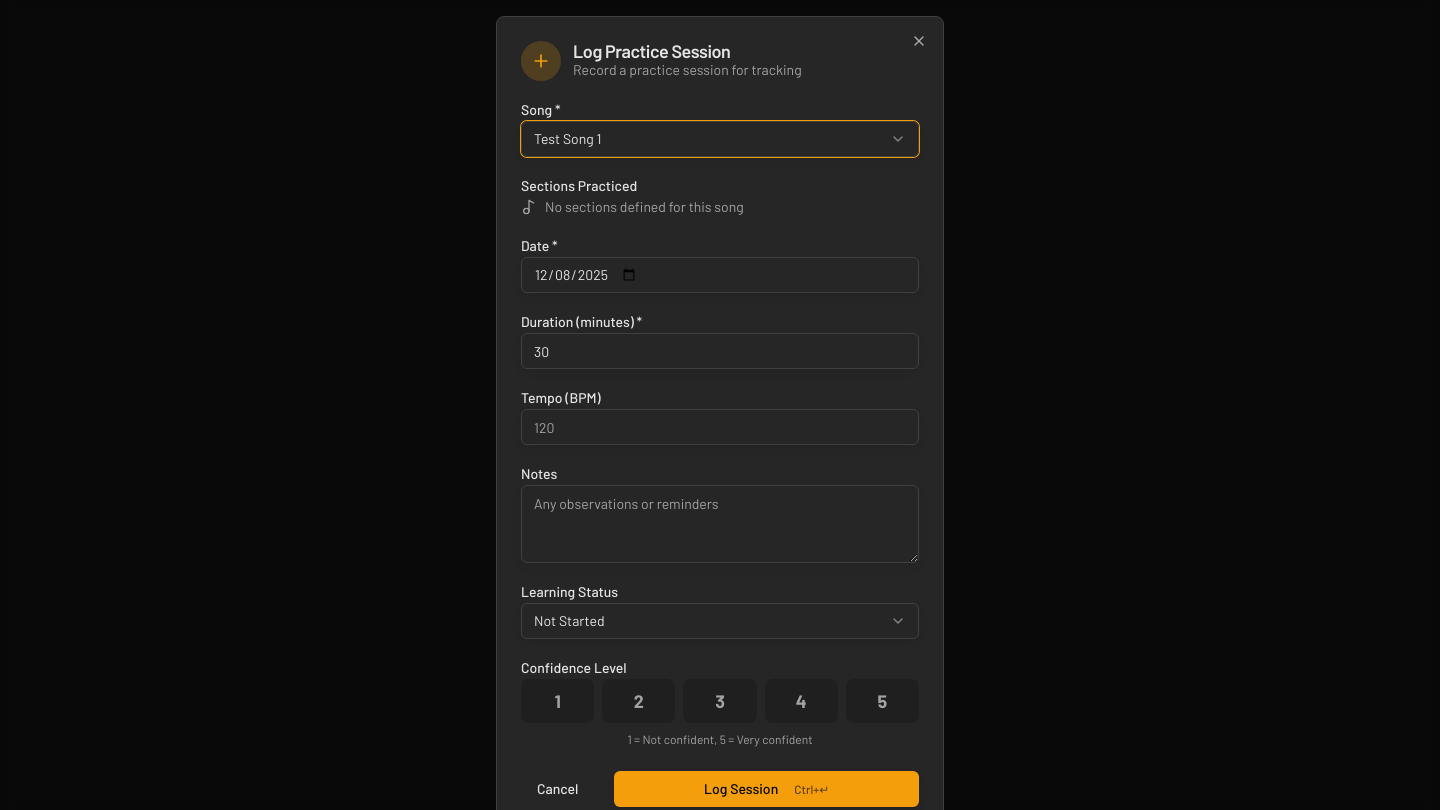
Scenario: LogPracticeModal › validation errors › should show error when duration is empty
Note: Clear duration
Clear the number field labelled "Duration (minutes) *" at (720,351), box [521,333,919,369]
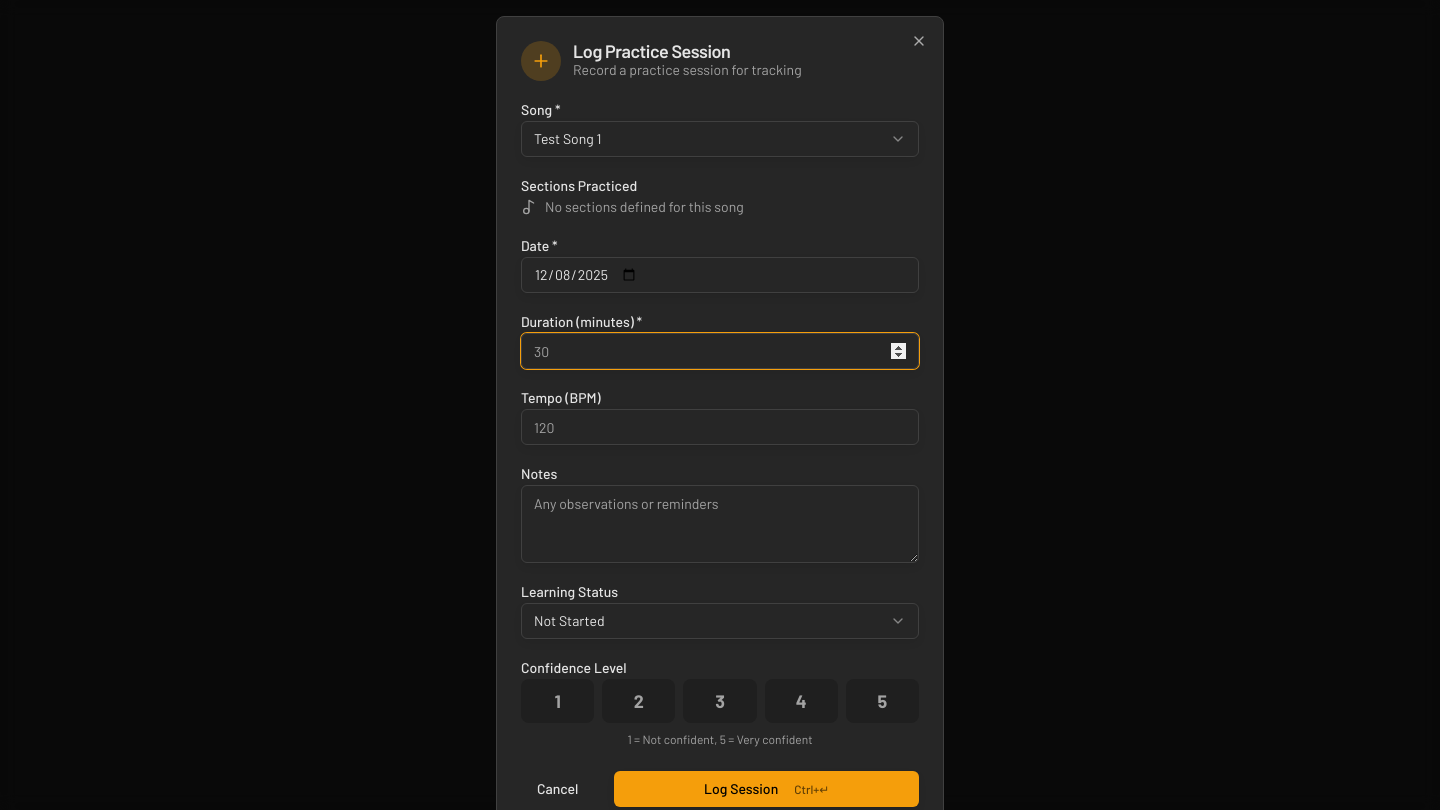
Click the button "Log Session Ctrl+↵" at (767,789), box [614,771,919,807]
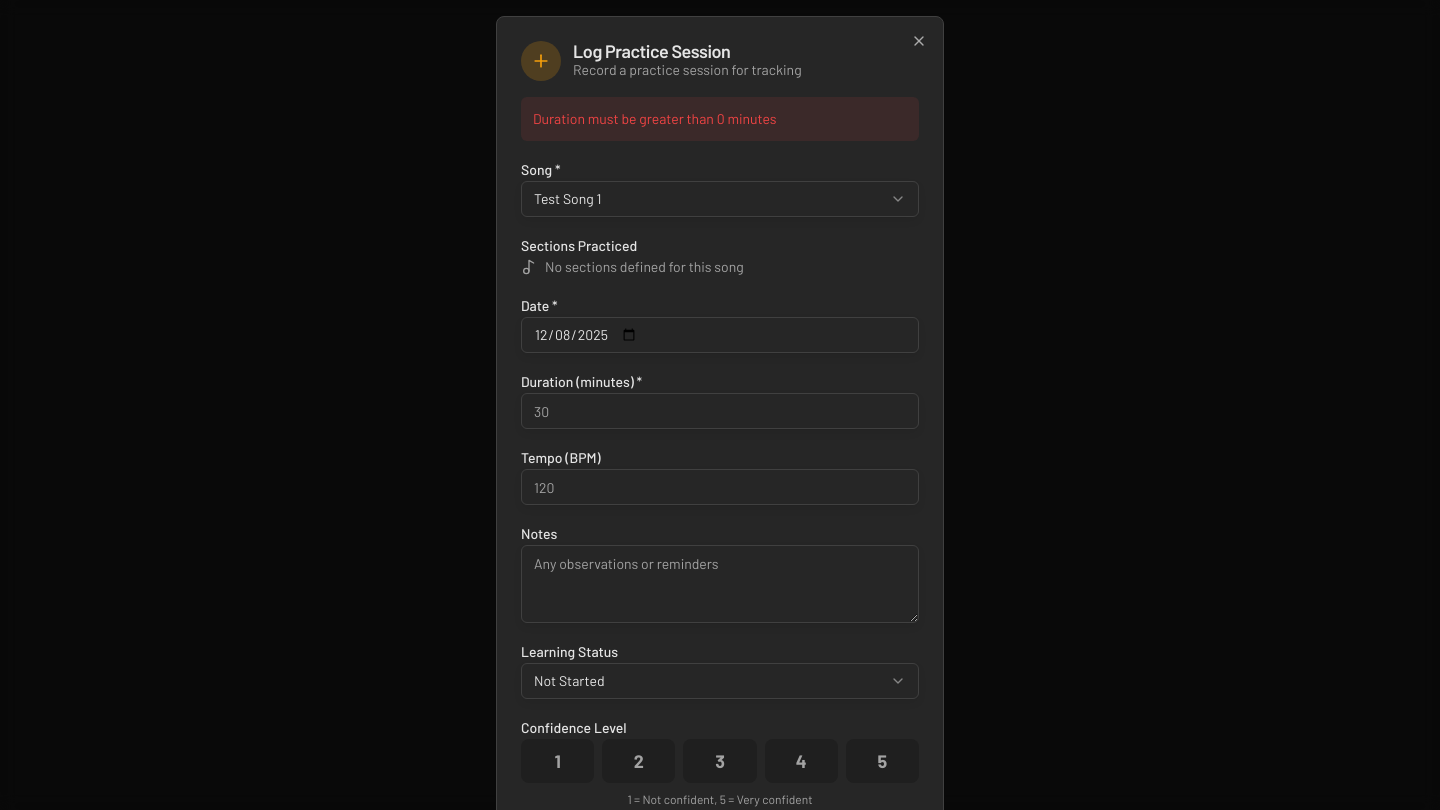
Expected: the text "Duration must be greater than 0 minutes" is shown, [521,97,919,141]
